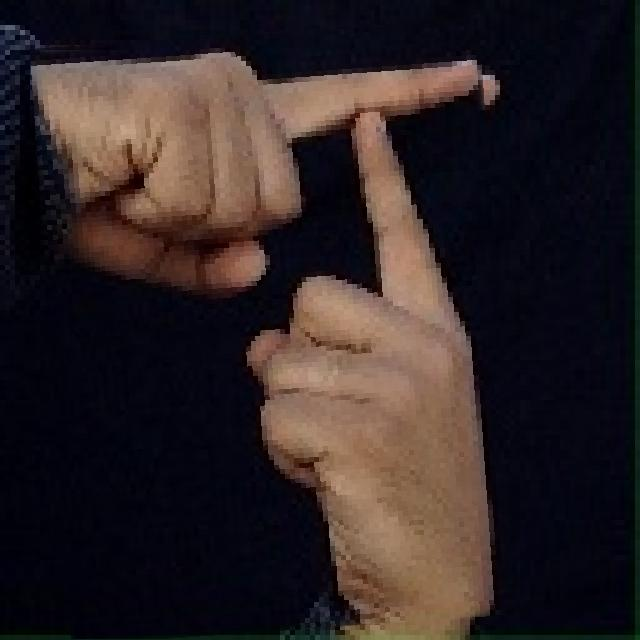T: (40, 26, 510, 638)
